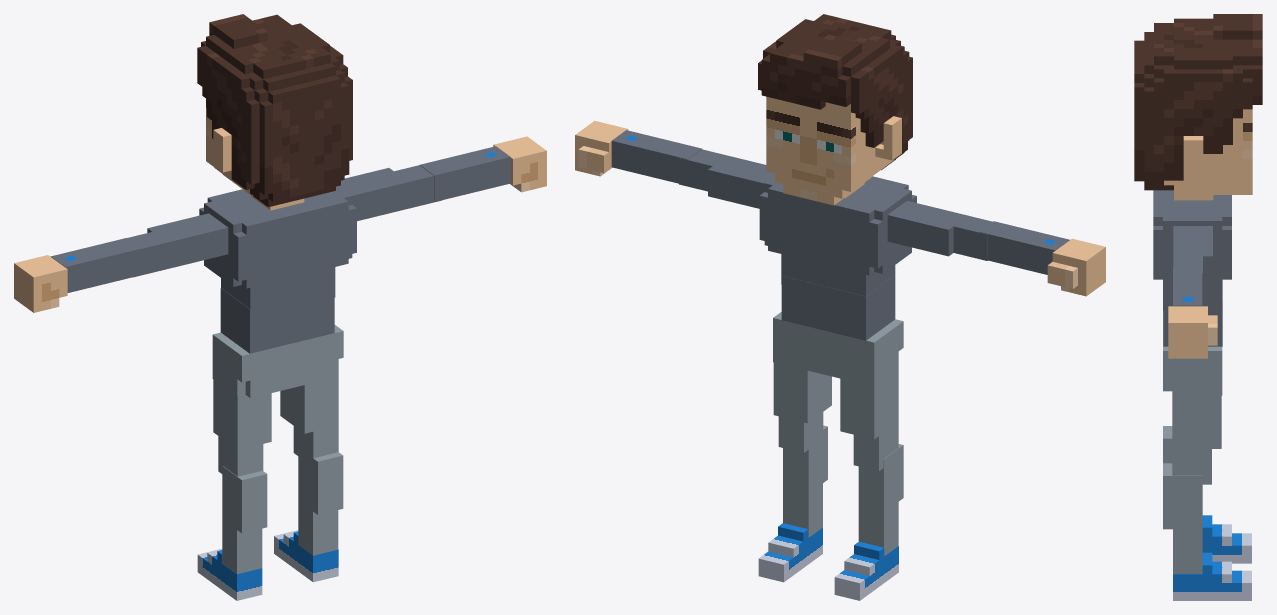
Rendered from Mammals_Biped_Medium_Hu.glb.
3 views of the same model, side by side, from view 1: azimuth 30°, elevation 25°; view 2: azimuth 150°, elevation 25°; view 3: azimuth 270°, elevation 25° (orthographic).
Visible parts, largest first — view 1: Head-Local, Chest-Local, Hip-Local, Left_Thigh-Local, Belly-Local, Left_Leg-Local, Right_Leg-Local, Right_Thigh-Local, Left_Arm-Local, Right_Arm-Local, Right_Forearm-Local, Left_Forearm-Local (+4 smaller); view 2: Head-Local, Chest-Local, Hip-Local, Belly-Local, Left_Thigh-Local, Left_Arm-Local, Right_Thigh-Local, Left_Leg-Local, Right_Arm-Local, Right_Leg-Local, Right_Forearm-Local, Left_Forearm-Local (+4 smaller); view 3: Head-Local, Chest-Local, Right_Thigh-Local, Right_Leg-Local, Right_Foot-Local, Hip-Local, Right_Hand-Local, Right_Arm-Local, Left_Foot-Local, Right_Forearm-Local, Belly-Local, Left_Leg-Local.
Part boxes in pixels (x1=…): Head-Local: x1=197, y1=14, x2=352, y2=210; Chest-Local: x1=199, y1=186, x2=356, y2=318; Hip-Local: x1=212, y1=325, x2=343, y2=398; Left_Thigh-Local: x1=213, y1=379, x2=271, y2=476; Belly-Local: x1=220, y1=288, x2=334, y2=353; Left_Leg-Local: x1=222, y1=466, x2=267, y2=574; Right_Leg-Local: x1=298, y1=452, x2=343, y2=555; Right_Thigh-Local: x1=280, y1=359, x2=338, y2=466; Left_Arm-Local: x1=128, y1=213, x2=228, y2=277; Right_Arm-Local: x1=339, y1=165, x2=441, y2=221; Right_Forearm-Local: x1=420, y1=146, x2=510, y2=201; Left_Forearm-Local: x1=50, y1=238, x2=141, y2=292; Head-Local: x1=758, y1=14, x2=912, y2=205; Chest-Local: x1=759, y1=176, x2=916, y2=296; Hip-Local: x1=773, y1=312, x2=903, y2=386; Belly-Local: x1=781, y1=275, x2=895, y2=340; Left_Thigh-Local: x1=840, y1=369, x2=898, y2=471; Left_Arm-Local: x1=887, y1=201, x2=992, y2=260; Right_Thigh-Local: x1=773, y1=362, x2=831, y2=452; Left_Leg-Local: x1=858, y1=444, x2=903, y2=555; Right_Arm-Local: x1=679, y1=149, x2=774, y2=208; Right_Leg-Local: x1=783, y1=425, x2=827, y2=537; Right_Forearm-Local: x1=611, y1=130, x2=701, y2=183; Left_Forearm-Local: x1=979, y1=221, x2=1069, y2=274; Head-Local: x1=1134, y1=14, x2=1262, y2=200; Chest-Local: x1=1153, y1=190, x2=1231, y2=310; Right_Thigh-Local: x1=1172, y1=377, x2=1221, y2=484; Right_Leg-Local: x1=1163, y1=463, x2=1202, y2=573; Right_Foot-Local: x1=1173, y1=552, x2=1251, y2=600; Hip-Local: x1=1163, y1=311, x2=1222, y2=395; Right_Hand-Local: x1=1168, y1=306, x2=1217, y2=358; Right_Arm-Local: x1=1173, y1=226, x2=1212, y2=299; Left_Foot-Local: x1=1202, y1=515, x2=1251, y2=563; Right_Forearm-Local: x1=1173, y1=268, x2=1202, y2=306; Belly-Local: x1=1163, y1=280, x2=1222, y2=346; Left_Leg-Local: x1=1163, y1=426, x2=1172, y2=463.
Size of the model in its own units: 3.03 by 3.05 by 0.65.
16 materials, 16 textured.
